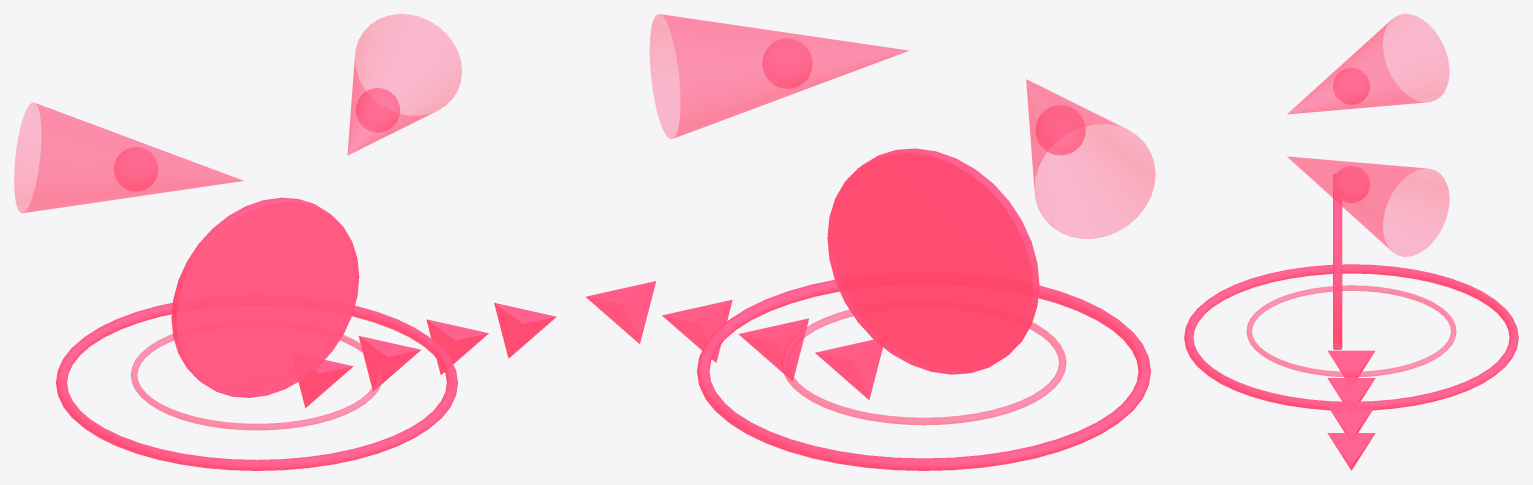
Rendered from vfx_wave_start.glb.
3 views of the same model, side by side, from view 1: azimuth 30°, elevation 25°; view 2: azimuth 150°, elevation 25°; view 3: azimuth 270°, elevation 25° (orthographic). The views are drawn at different scales.
Parts seen in each view (by area): view 1: ws_iris_flare, ws_sweep-1, ws_sweep1, ws_ring, ws_ring_b, ws_chevron3, ws_chevron1, ws_lamp_glow-1, ws_lamp_glow1, ws_chevron2, ws_chevron0; view 2: ws_iris_flare, ws_sweep1, ws_sweep-1, ws_ring, ws_ring_b, ws_chevron3, ws_chevron1, ws_chevron0, ws_lamp_glow-1, ws_lamp_glow1, ws_chevron2; view 3: ws_sweep1, ws_sweep-1, ws_ring, ws_ring_b, ws_iris_flare, ws_lamp_glow-1, ws_lamp_glow1, ws_chevron3, ws_chevron0, ws_chevron2, ws_chevron1.
Boxes of the visible parts, x1,y1,x2,y2 form: ws_iris_flare: (171, 197, 359, 397); ws_sweep-1: (14, 102, 243, 213); ws_sweep1: (347, 14, 461, 155); ws_ring: (56, 302, 457, 470); ws_ring_b: (131, 334, 382, 430); ws_chevron3: (494, 302, 556, 358); ws_chevron1: (358, 336, 420, 391); ws_lamp_glow-1: (114, 147, 157, 191); ws_lamp_glow1: (356, 88, 399, 132); ws_chevron2: (426, 319, 488, 374); ws_chevron0: (298, 360, 353, 407); ws_iris_flare: (827, 148, 1039, 374); ws_sweep1: (650, 14, 908, 138); ws_sweep-1: (1026, 79, 1155, 238); ws_ring: (697, 279, 1150, 470); ws_ring_b: (781, 310, 1066, 425); ws_chevron3: (585, 281, 656, 343); ws_chevron1: (738, 318, 808, 380); ws_chevron0: (815, 339, 882, 399); ws_lamp_glow-1: (1035, 105, 1085, 155); ws_lamp_glow1: (762, 38, 812, 88); ws_chevron2: (662, 299, 732, 362); ws_sweep1: (1287, 156, 1449, 256); ws_sweep-1: (1287, 14, 1449, 114); ws_ring: (1184, 264, 1518, 410); ws_ring_b: (1246, 285, 1456, 377); ws_iris_flare: (1333, 174, 1342, 349); ws_lamp_glow-1: (1333, 68, 1369, 104); ws_lamp_glow1: (1333, 166, 1369, 202); ws_chevron3: (1327, 433, 1375, 470); ws_chevron0: (1328, 350, 1374, 377); ws_chevron2: (1328, 405, 1374, 432); ws_chevron1: (1327, 378, 1375, 401).
Bounding box in the file's own units: 10.83 × 6.54 × 7.2.
